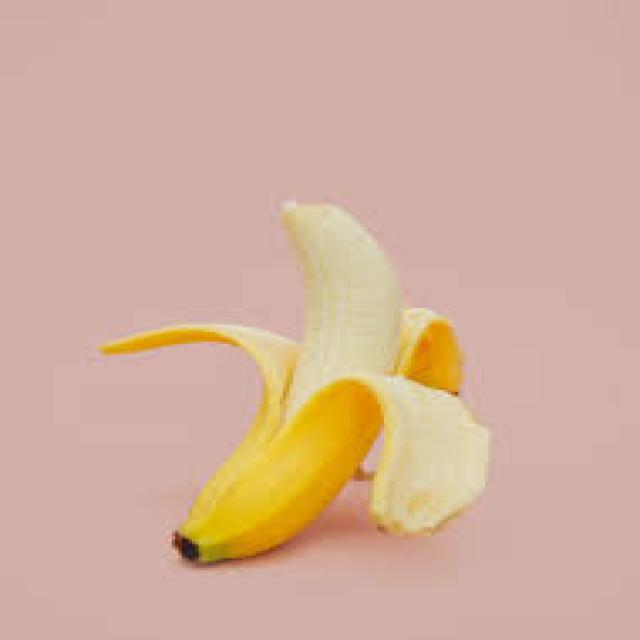banana: (94, 197, 488, 563)
